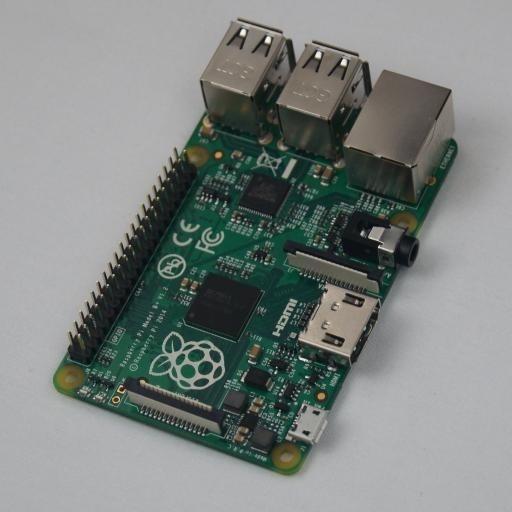Raspberry Pi 1 B-: (53, 18, 458, 476)
